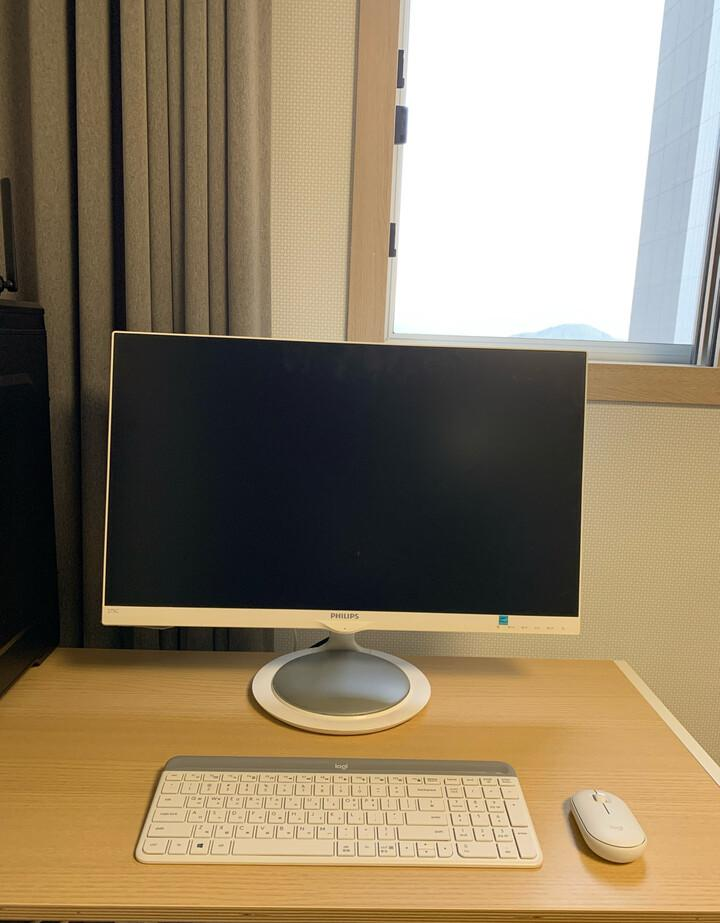keyboard: (133, 754, 544, 869)
mouse: (568, 787, 647, 864)
